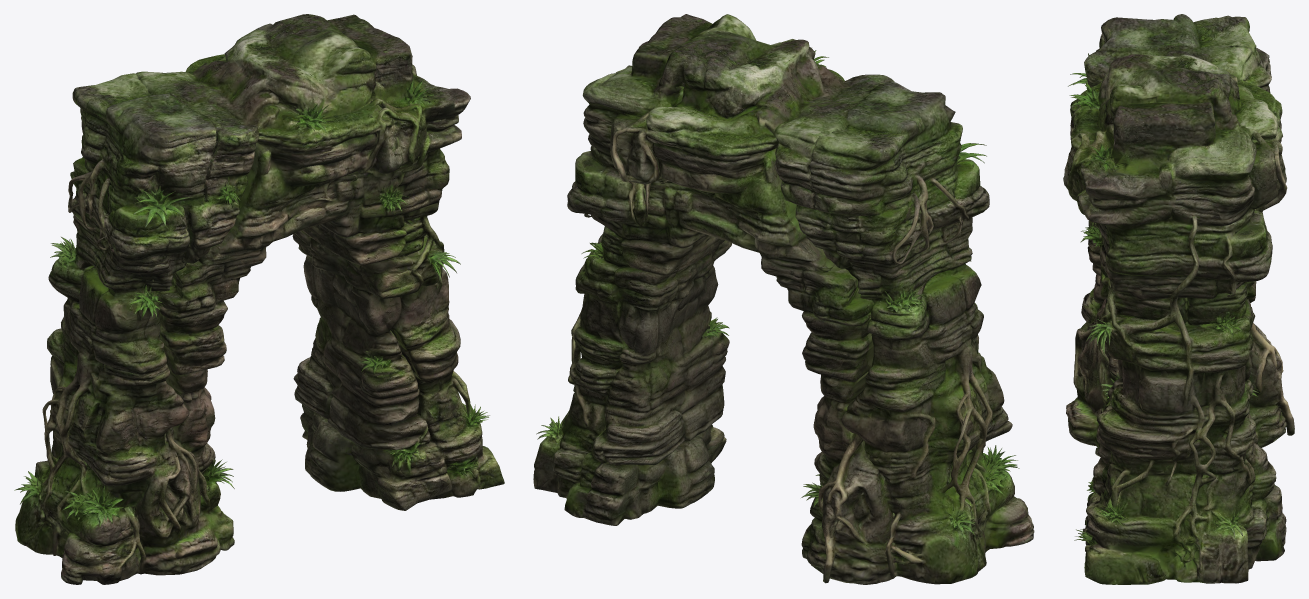
Rendered from moss_archway.glb.
The picture shows the model from 3 angles, left to right: view 1: azimuth 30°, elevation 25°; view 2: azimuth 150°, elevation 25°; view 3: azimuth 270°, elevation 25°; orthographic projection. The views are drawn at different scales.
Visible parts, largest first — view 1: moss_archway; view 2: moss_archway; view 3: moss_archway.
Boxes of the visible parts, <box> form: moss_archway: <box>14,14,504,584</box>; moss_archway: <box>533,14,1034,584</box>; moss_archway: <box>1063,14,1294,584</box>.
Bounding box in the file's own units: 1.89 × 1.9 × 0.9144.
Materials: 1 (1 with a texture image).
